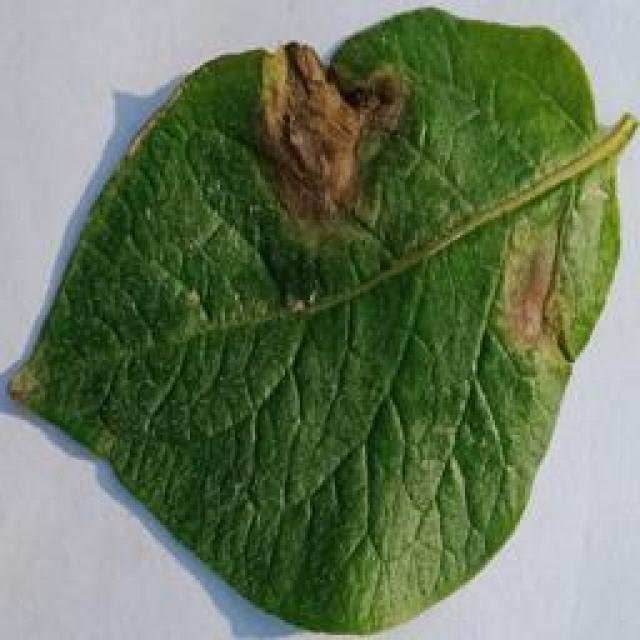Potato_Late_Blight: (8, 12, 620, 630)
